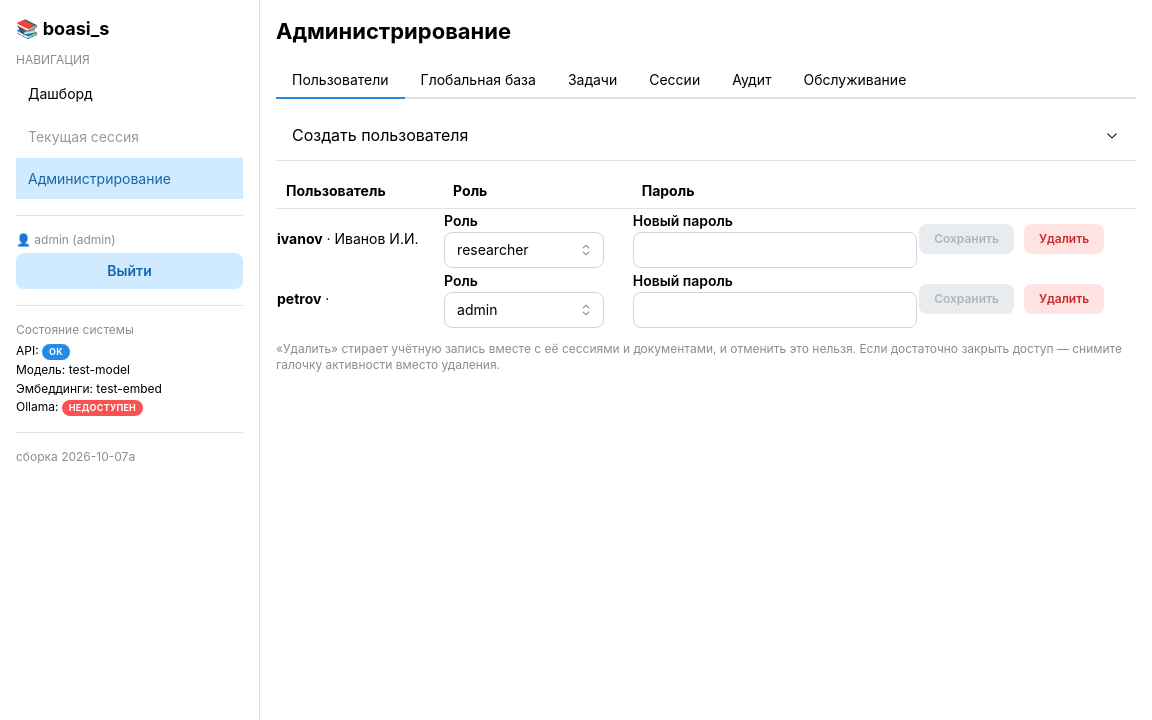
it: админка › смена роли шлёт PATCH только с role
Check: the text "ivanov" is shown, box [277,230,323,247]
Click the dropdown named "Роль: ivanov" at (524, 250), box [444,232,604,268]
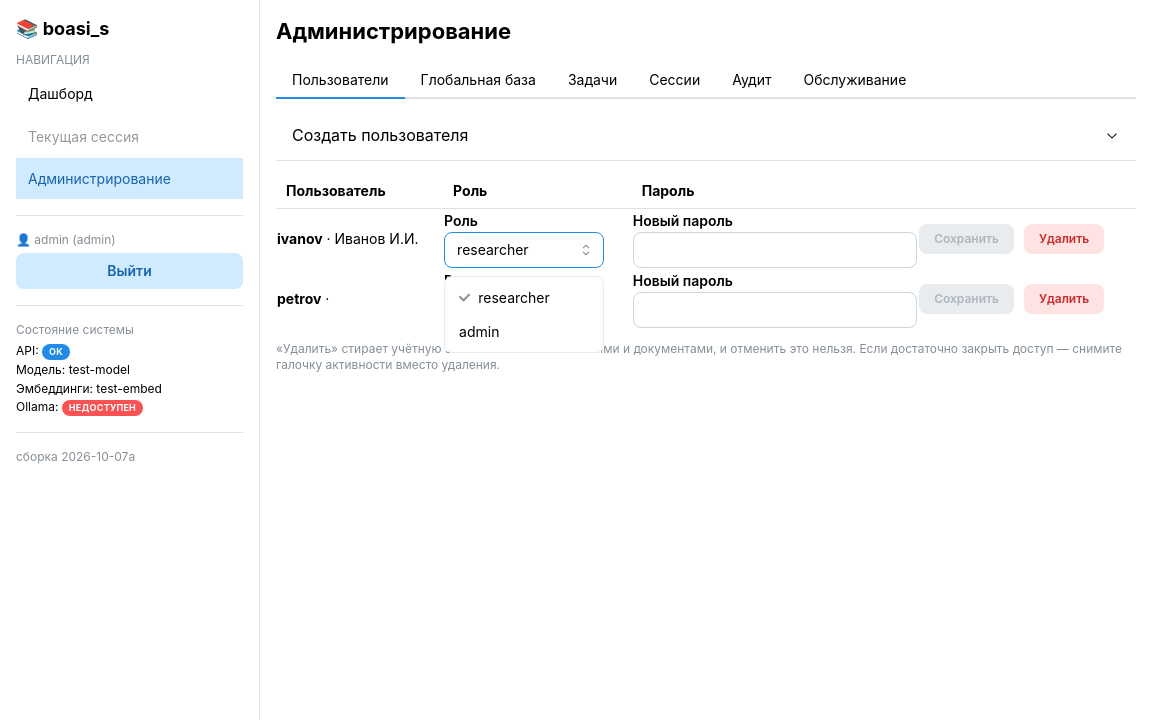
Click the option "admin" at (479, 331), box [459,323,500,340]
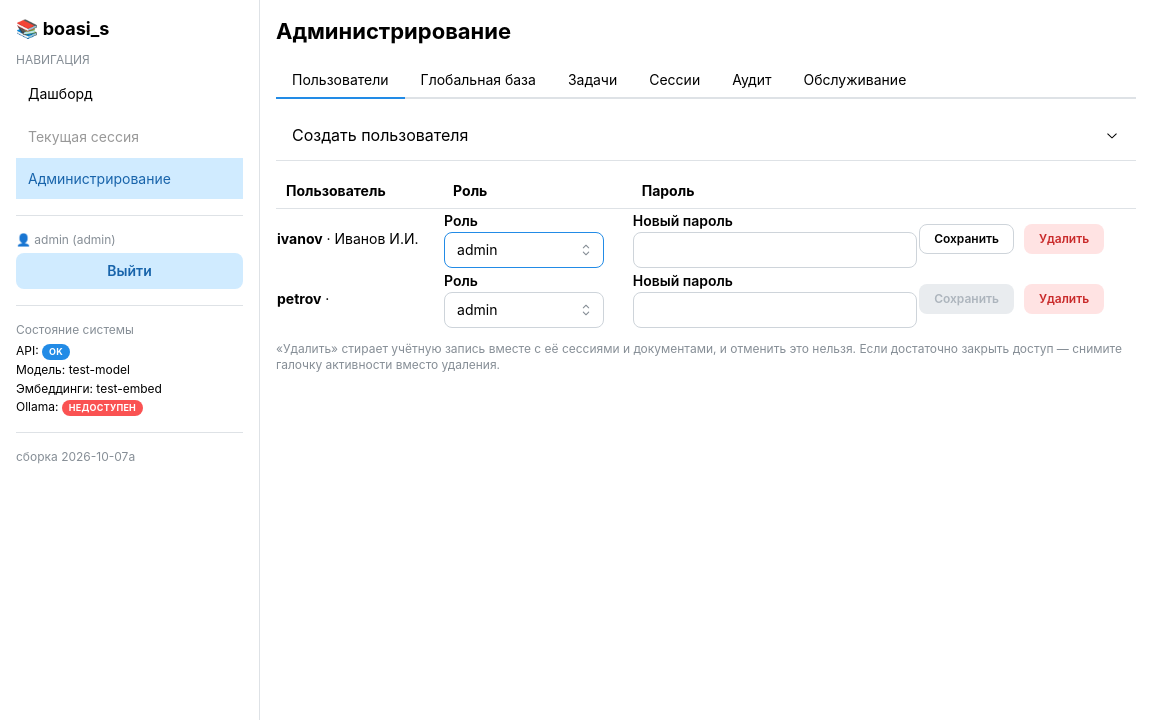
две строки пользователей — берём кнопку в строке ivanov
Click the button "Сохранить" in the row of "ivanov" at (967, 239), box [919,224,1014,254]
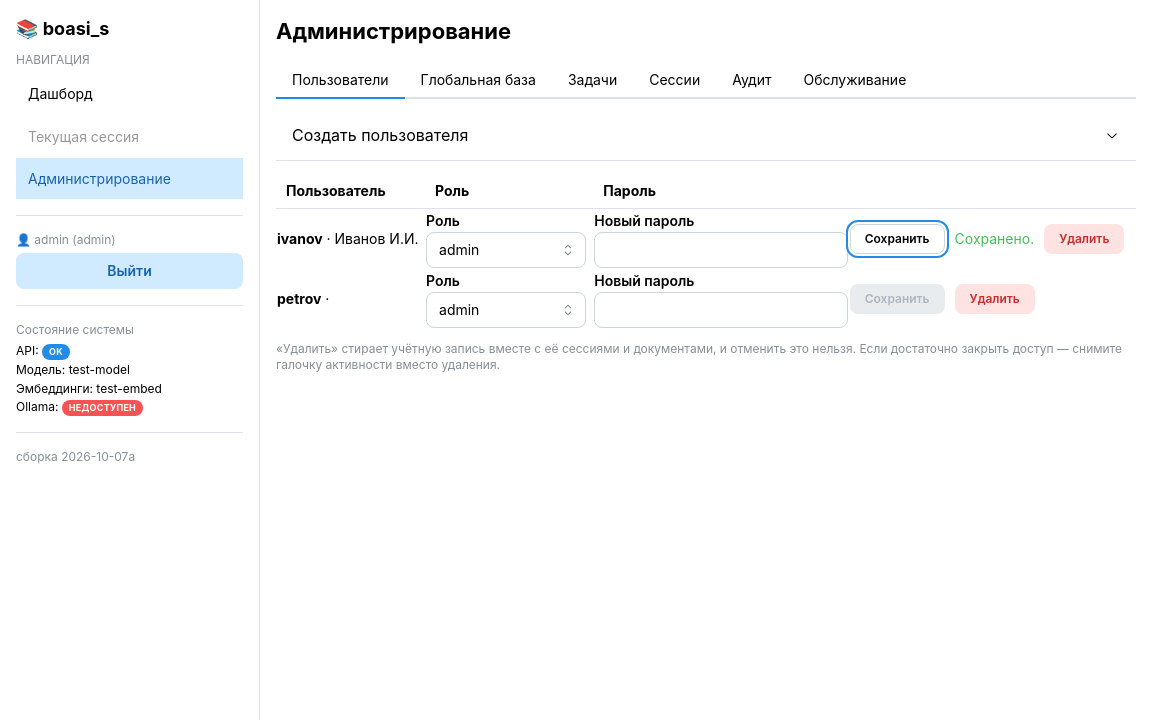
Check: the text "Сохранено." is shown, box [955,229,1034,249]
